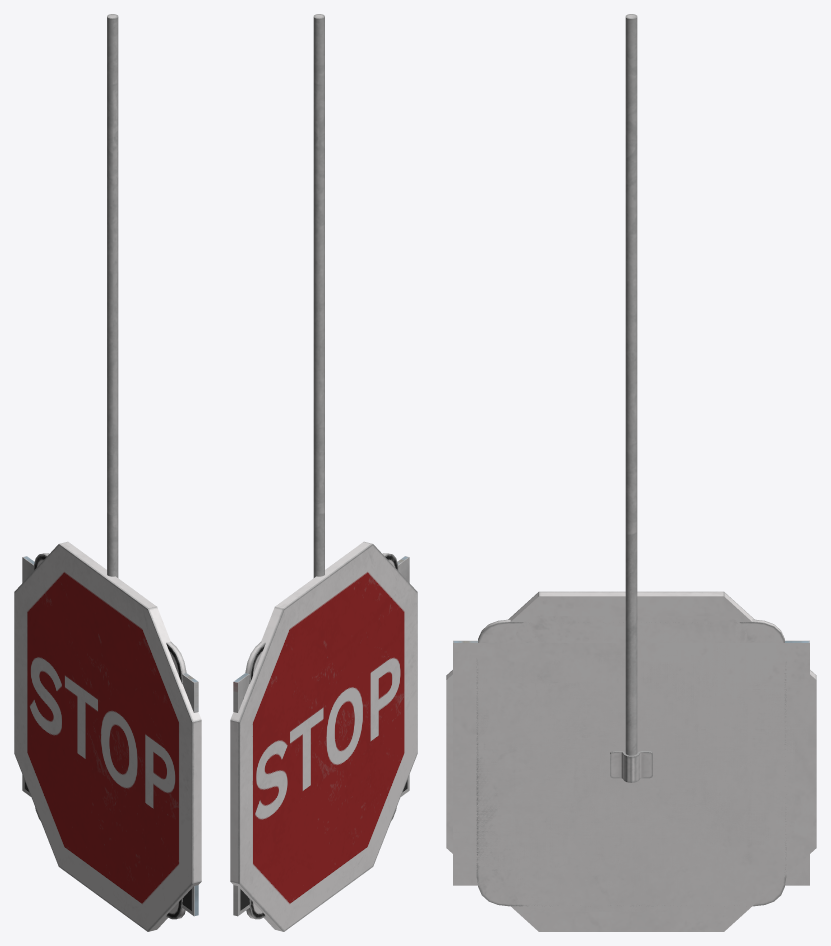
File: Signs.fbx
3 views of the same model, side by side, from view 1: azimuth 30°, elevation 25°; view 2: azimuth 150°, elevation 25°; view 3: azimuth 270°, elevation 25° (orthographic). The views are drawn at different scales.
Visible parts, largest first — view 1: SM_Sign_Stop, SM_Pole, SM_Sign_Notrespassing, SM_Sign_Noturn; view 2: SM_Sign_Stop, SM_Pole, SM_Sign_Notrespassing, SM_Sign_Noturn; view 3: SM_Sign_Notrespassing, SM_Sign_Stop, SM_Sign_Permit, SM_Sign_Personalonly, SM_Sign_Valetparking, SM_Sign_Paytopark, SM_Pole, SM_Sign_Noturn, SM_Sign_Oneway, SM_Sign_Turn, SM_Sign_Speedlimit, SM_Sign_Noparking (+3 smaller).
Boxes of the visible parts, x1=… form: SM_Sign_Stop: x1=14, y1=541, x2=201, y2=931; SM_Pole: x1=107, y1=14, x2=118, y2=577; SM_Sign_Notrespassing: x1=22, y1=557, x2=194, y2=916; SM_Sign_Noturn: x1=33, y1=553, x2=186, y2=919; SM_Sign_Stop: x1=230, y1=541, x2=417, y2=931; SM_Pole: x1=313, y1=14, x2=324, y2=577; SM_Sign_Notrespassing: x1=233, y1=557, x2=409, y2=916; SM_Sign_Noturn: x1=245, y1=553, x2=398, y2=919; SM_Sign_Notrespassing: x1=453, y1=640, x2=809, y2=885; SM_Sign_Stop: x1=446, y1=591, x2=816, y2=931; SM_Sign_Permit: x1=515, y1=616, x2=747, y2=911; SM_Sign_Personalonly: x1=497, y1=683, x2=765, y2=844; SM_Sign_Valetparking: x1=546, y1=656, x2=716, y2=872; SM_Sign_Paytopark: x1=566, y1=655, x2=696, y2=872; SM_Pole: x1=625, y1=14, x2=637, y2=755; SM_Sign_Noturn: x1=476, y1=619, x2=786, y2=906; SM_Sign_Oneway: x1=511, y1=705, x2=751, y2=823; SM_Sign_Turn: x1=468, y1=660, x2=794, y2=869; SM_Sign_Speedlimit: x1=515, y1=616, x2=747, y2=911; SM_Sign_Noparking: x1=546, y1=655, x2=716, y2=872.
Size of the model in its own units: 6 by 245 by 89.78.
